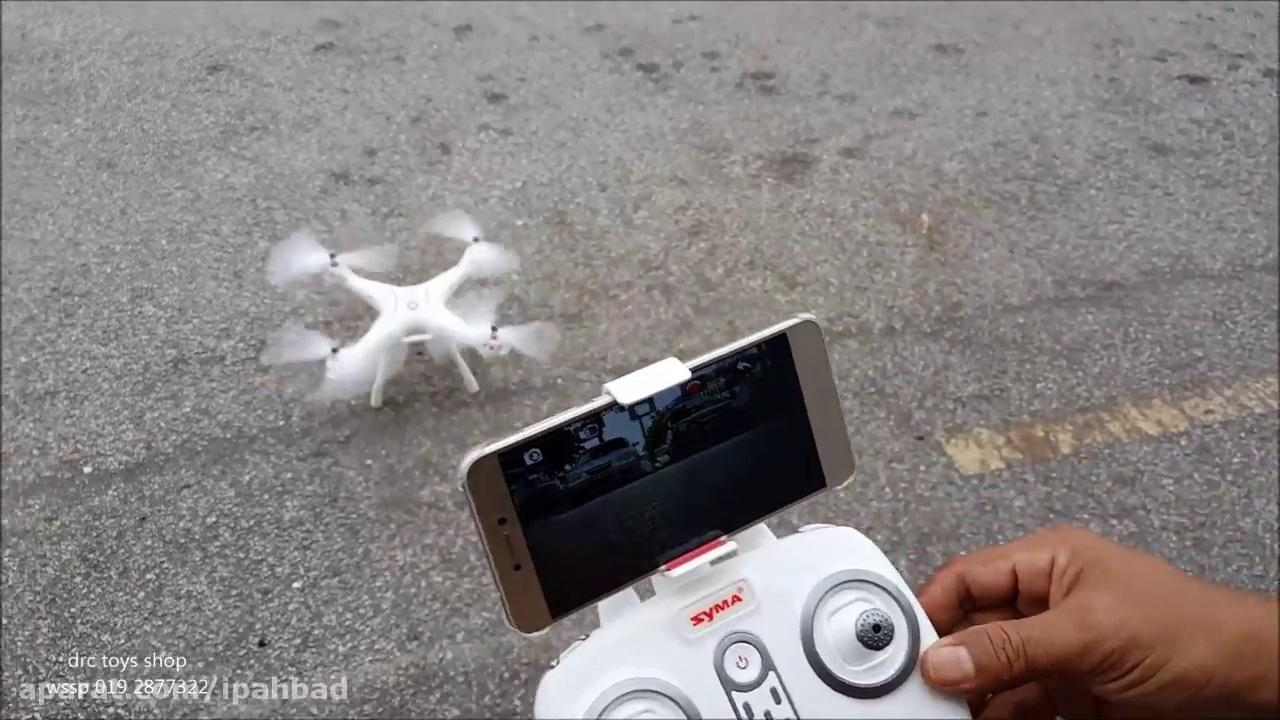drone: (253, 208, 564, 416)
